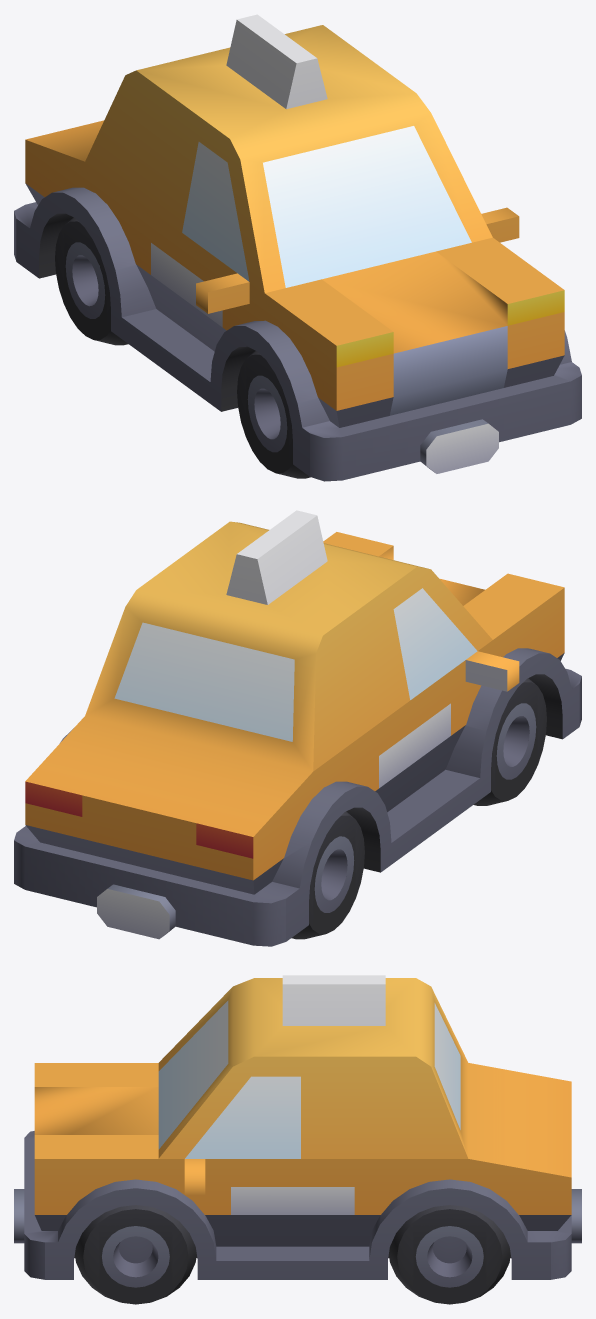
The model's file is taxi.glb.
3 views of the same model, one above another, from view 1: azimuth 30°, elevation 25°; view 2: azimuth 150°, elevation 25°; view 3: azimuth 270°, elevation 25° (orthographic). The views are drawn at different scales.
Parts seen in each view (by area): view 1: body, wheel-front-right, wheel-back-right; view 2: body, wheel-back-right, wheel-front-right; view 3: body, wheel-back-left, wheel-front-left.
Part boxes in pixels (bbox=[...]): body: bbox=[14, 14, 581, 481]; wheel-front-right: bbox=[237, 350, 310, 478]; wheel-back-right: bbox=[55, 217, 128, 345]; body: bbox=[14, 510, 581, 946]; wheel-back-right: bbox=[291, 811, 364, 939]; wheel-front-right: bbox=[473, 678, 546, 805]; body: bbox=[14, 975, 581, 1279]; wheel-back-left: bbox=[388, 1205, 510, 1304]; wheel-front-left: bbox=[75, 1205, 196, 1304].
Bounding box in the file's own units: 1.5 × 1.5 × 2.75.
Materials: 1 (1 with a texture image).
